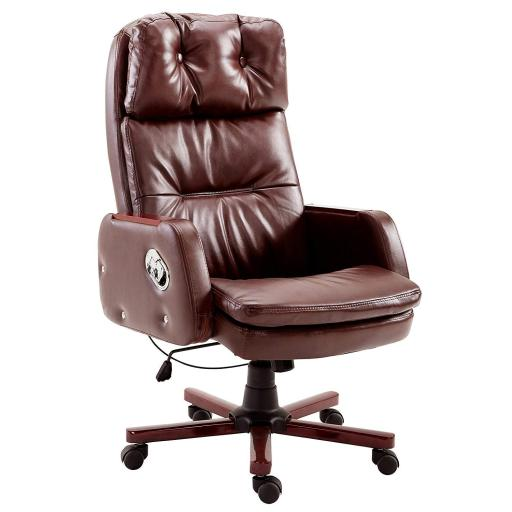chair: (98, 12, 421, 504)
